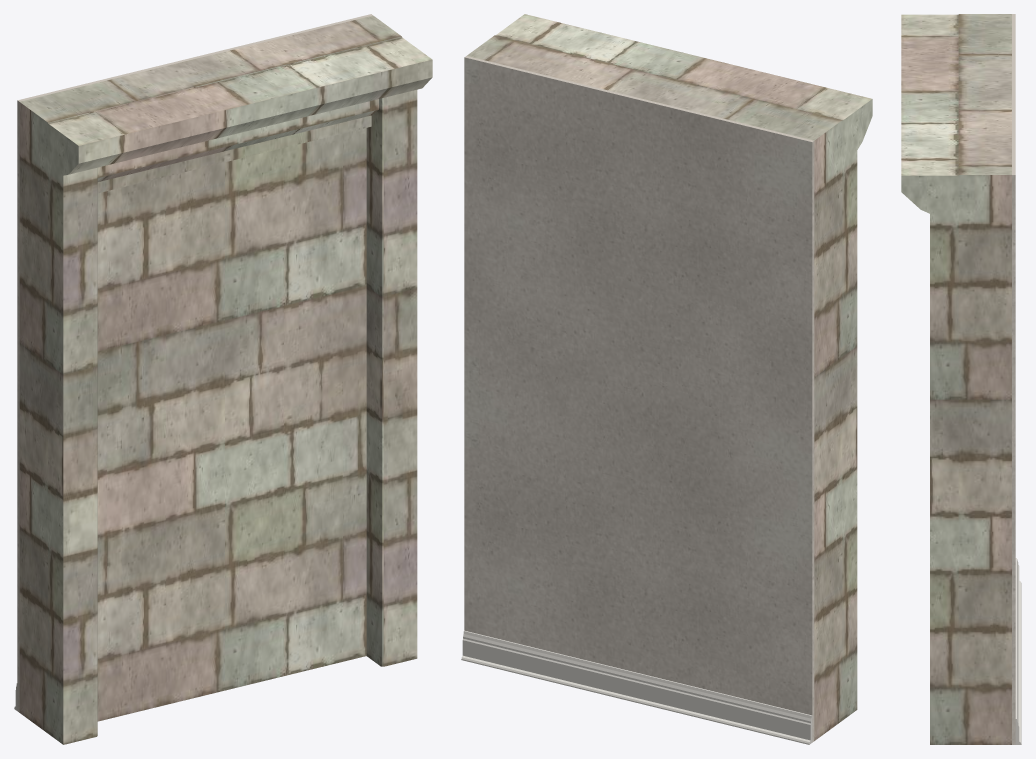
Rendered from c_plain.glb.
3 views of the same model, side by side, from view 1: azimuth 30°, elevation 25°; view 2: azimuth 150°, elevation 25°; view 3: azimuth 270°, elevation 25° (orthographic). The views are drawn at different scales.
Parts seen in each view (by area): view 1: c_plain_stone, c_plain_plaster; view 2: c_plain_plaster, c_plain_stone, molduras; view 3: c_plain_stone, c_plain_plaster, molduras.
Boxes of the visible parts, x1=… form: c_plain_stone: x1=19, y1=15, x2=432, y2=744; c_plain_plaster: x1=17, y1=14, x2=372, y2=712; c_plain_plaster: x1=464, y1=56, x2=814, y2=742; c_plain_stone: x1=467, y1=14, x2=872, y2=740; molduras: x1=461, y1=630, x2=812, y2=744; c_plain_stone: x1=901, y1=14, x2=1011, y2=744; c_plain_plaster: x1=1012, y1=14, x2=1015, y2=744; molduras: x1=1015, y1=558, x2=1021, y2=744.
Bounding box in the file's own units: 2 × 3.3 × 0.63.
Materials: 3 (2 with a texture image).
